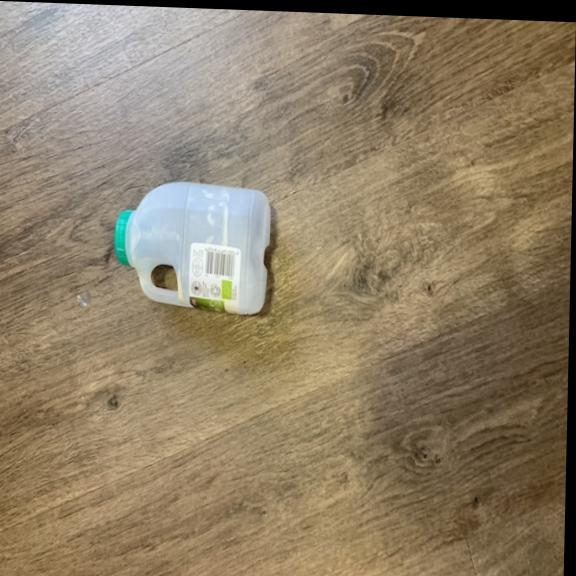Plastik: (112, 176, 278, 316)
